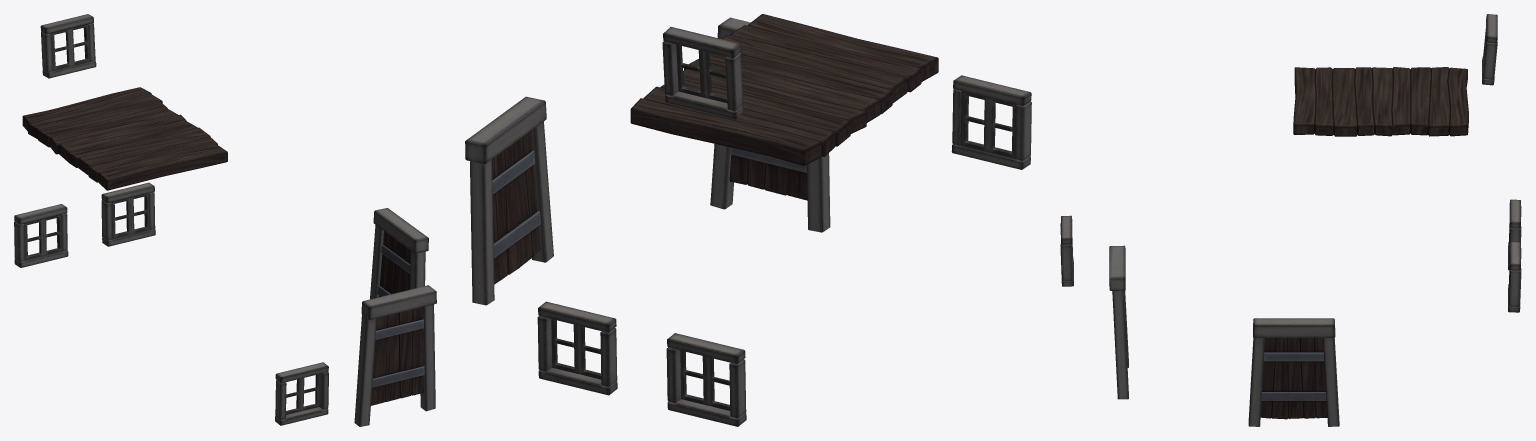
The model's file is m_DoorsWindPlatf.fbx.
The picture shows the model from 3 angles, left to right: view 1: azimuth 30°, elevation 25°; view 2: azimuth 150°, elevation 25°; view 3: azimuth 270°, elevation 25°; orthographic projection. The views are drawn at different scales.
Parts seen in each view (by area): view 1: Frames, Platform, DoorSide, DoorMain; view 2: Frames, Platform, DoorMain, DoorSide; view 3: Platform, Frames, DoorMain.
Boxes of the visible parts, x1,y1,x2,y2 form: Frames: [14, 14, 436, 426]; Platform: [22, 87, 227, 190]; DoorSide: [371, 307, 424, 405]; DoorMain: [377, 231, 410, 296]; Frames: [465, 17, 1031, 426]; Platform: [630, 14, 938, 165]; DoorMain: [492, 131, 540, 284]; DoorSide: [729, 147, 807, 200]; Platform: [1293, 67, 1468, 136]; Frames: [1060, 14, 1521, 426]; DoorMain: [1260, 338, 1327, 419].
Size of the model in its own units: 516 by 479 by 691.
